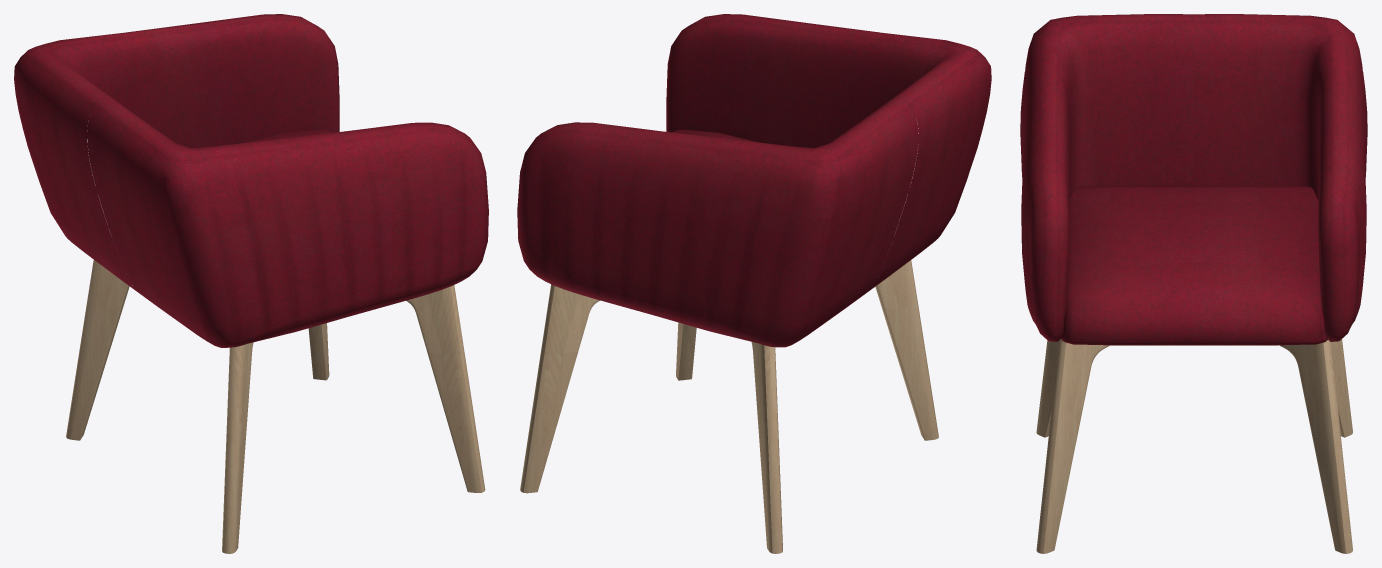
File: Chair1.glb
The picture shows the model from 3 angles, left to right: view 1: azimuth 30°, elevation 25°; view 2: azimuth 150°, elevation 25°; view 3: azimuth 270°, elevation 25°; orthographic projection. The views are drawn at different scales.
Parts seen in each view (by area): view 1: SM_WingChair; view 2: SM_WingChair; view 3: SM_WingChair.
Boxes of the visible parts, bbox=[...] form: SM_WingChair: bbox=[14, 14, 488, 553]; SM_WingChair: bbox=[517, 14, 991, 553]; SM_WingChair: bbox=[1020, 14, 1367, 553].
Bounding box in the file's own units: 2.2 × 2.62 × 2.09.
1 material, 1 textured.
